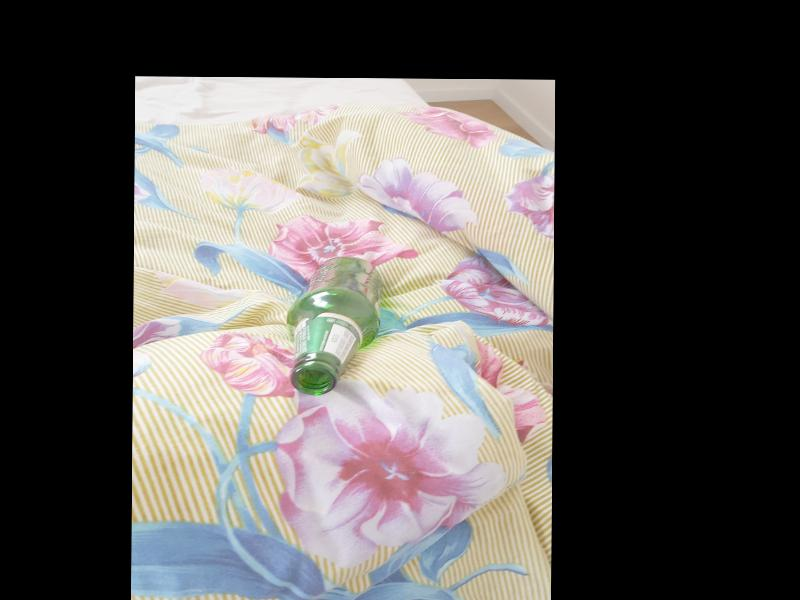Beer: (286, 256, 377, 395)
